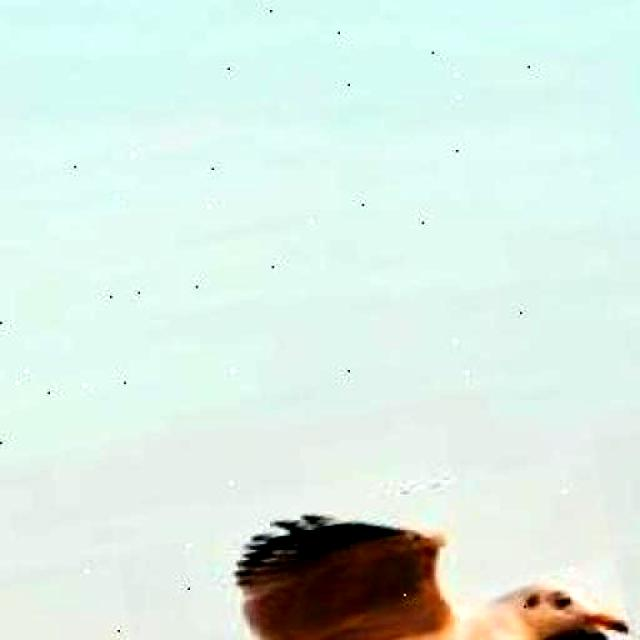airplane: (116, 452, 640, 640)
